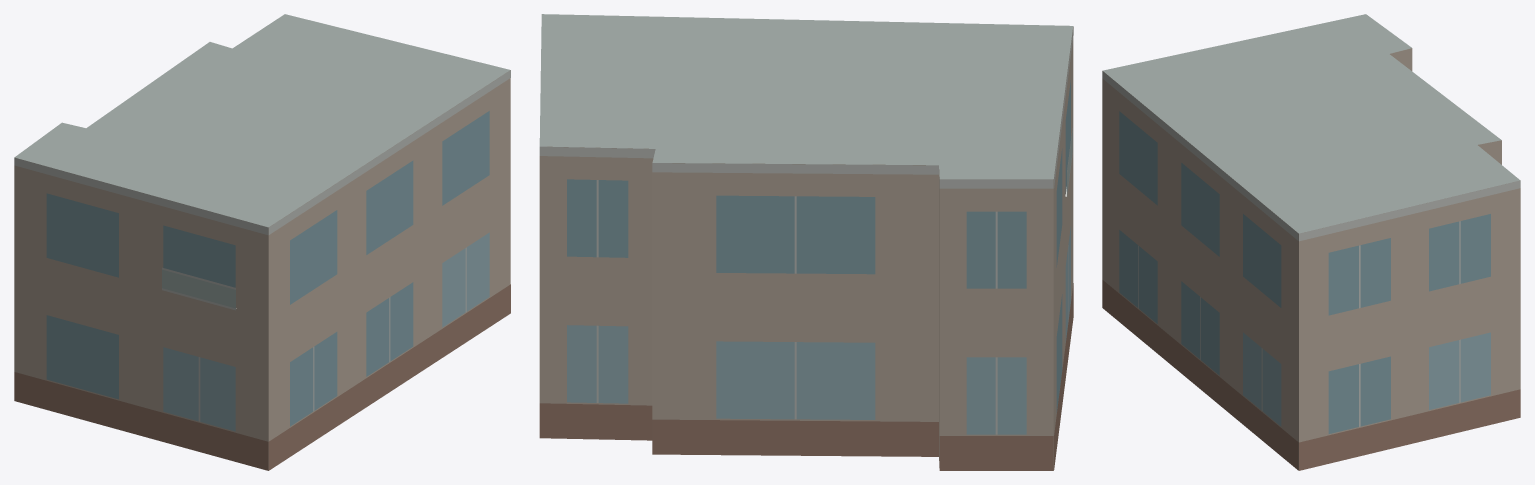
Rendered from survey-upis-32769404.glb.
3 views of the same model, side by side, from view 1: azimuth 30°, elevation 25°; view 2: azimuth 150°, elevation 25°; view 3: azimuth 270°, elevation 25° (orthographic). The views are drawn at different scales.
Parts seen in each view (by area): view 1: survey-upis-32769404.tmp; view 2: survey-upis-32769404.tmp; view 3: survey-upis-32769404.tmp.
Boxes of the visible parts, x1,y1,x2,y2 form: survey-upis-32769404.tmp: (14, 14, 510, 470); survey-upis-32769404.tmp: (539, 14, 1073, 470); survey-upis-32769404.tmp: (1102, 14, 1520, 470).
Bounding box in the file's own units: 14.9 × 7.5 × 11.99.
